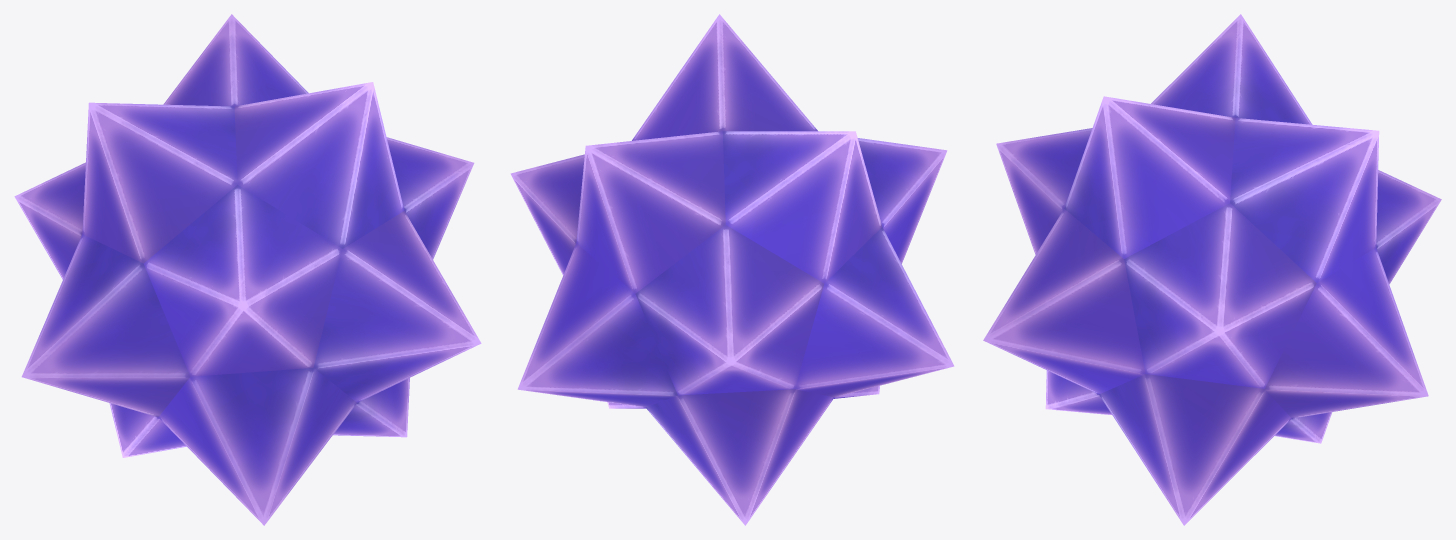
File: star_lantern.glb
3 renders of one model, left to right at view 1: azimuth 30°, elevation 25°; view 2: azimuth 150°, elevation 25°; view 3: azimuth 270°, elevation 25°, orthographic. The views are drawn at different scales.
Parts seen in each view (by area): view 1: decahedron star lp_161; view 2: decahedron star lp_161; view 3: decahedron star lp_161.
Part boxes in pixels (x1,y1,x2,y2): decahedron star lp_161: (14,14,481,525); decahedron star lp_161: (510,14,954,525); decahedron star lp_161: (983,14,1441,525).
Bounding box in the file's own units: 1.06 × 0.9348 × 0.9401.
Materials: 1 (1 with a texture image).
